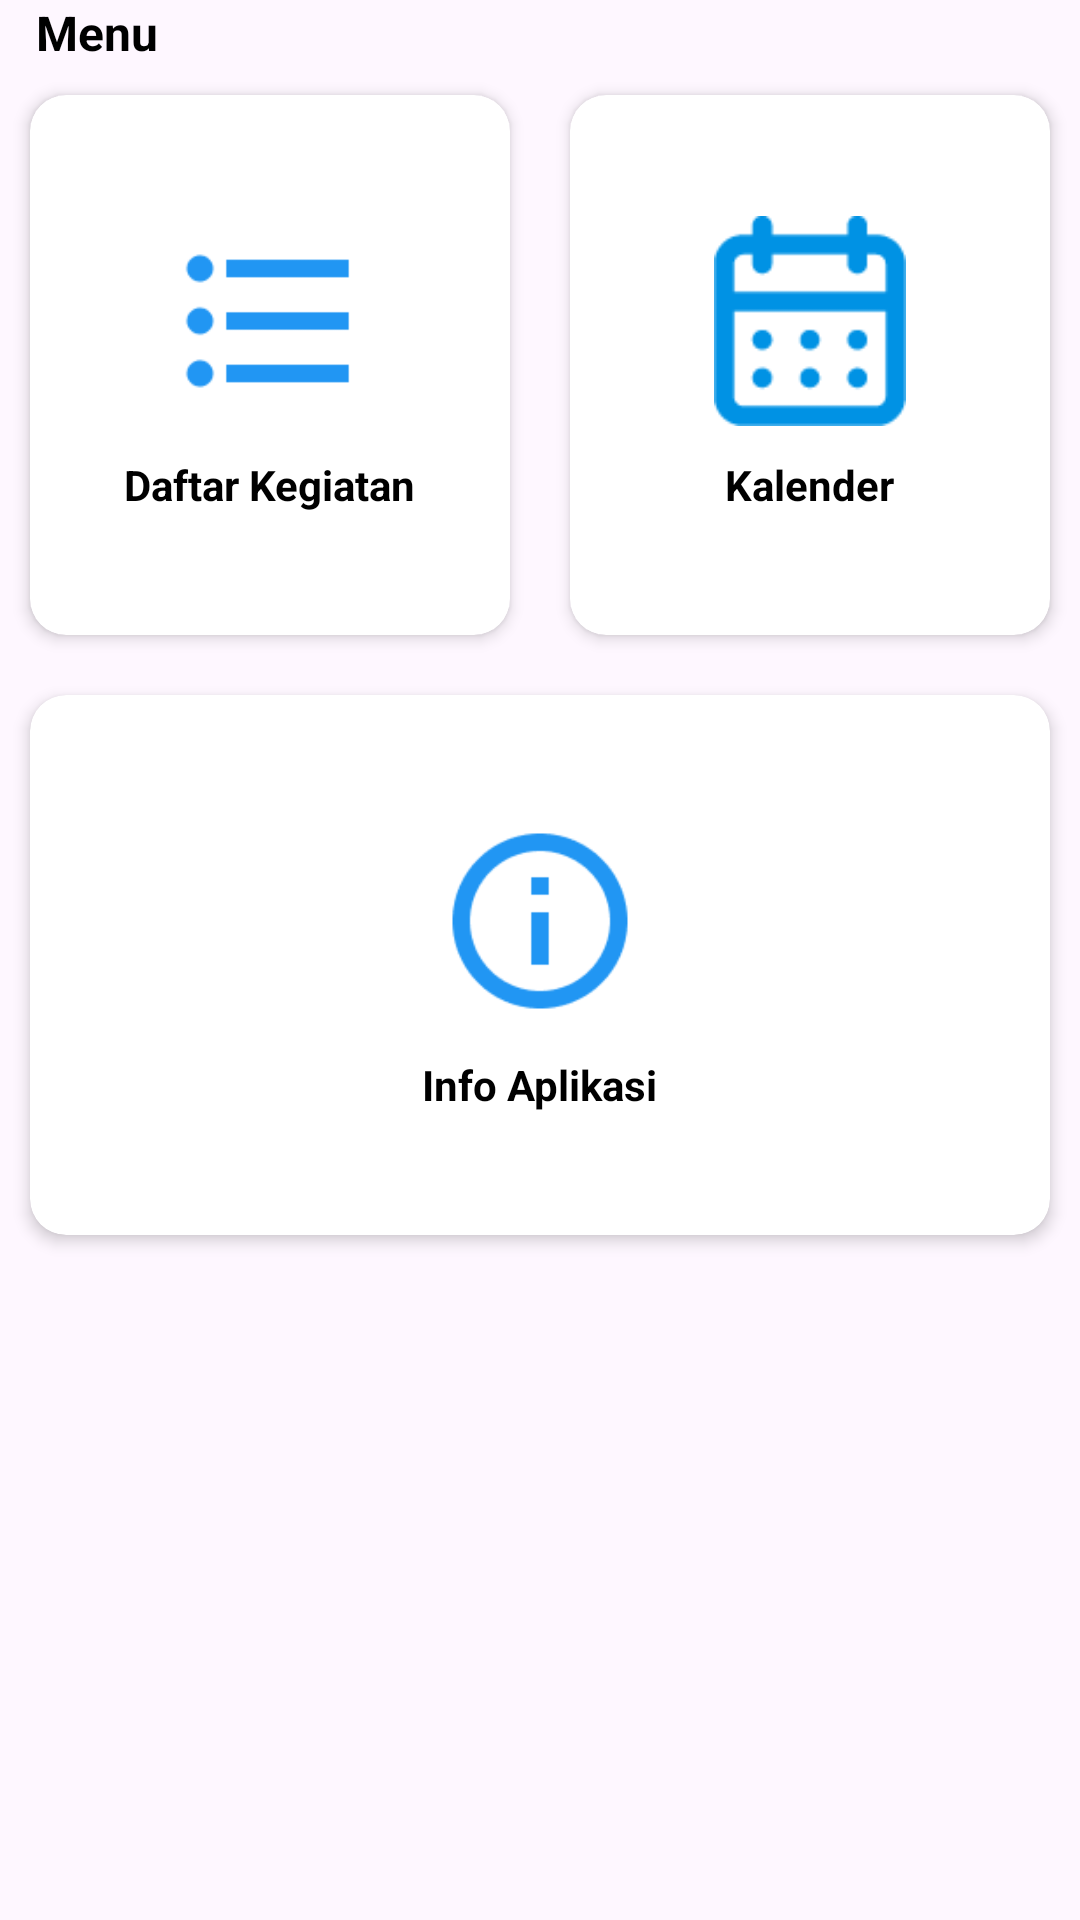

Where to tap for icons on this 1080x1920 app screen, as point (x, y):
list: point (267, 321)
